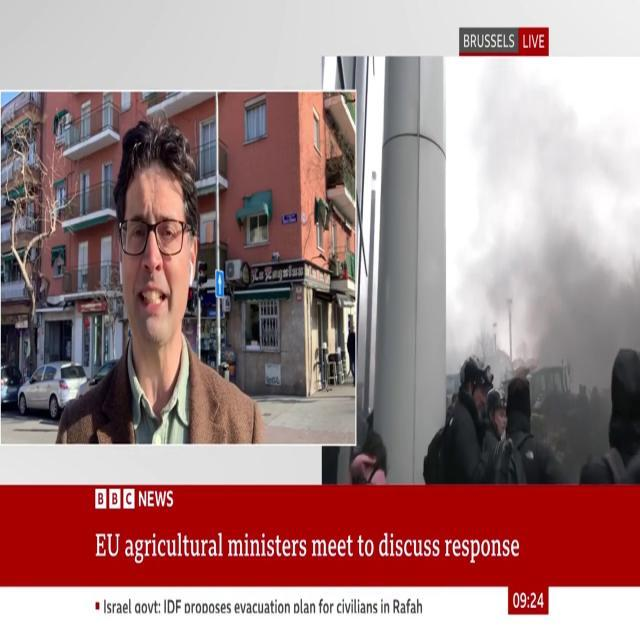Smoke: (448, 60, 640, 365)
